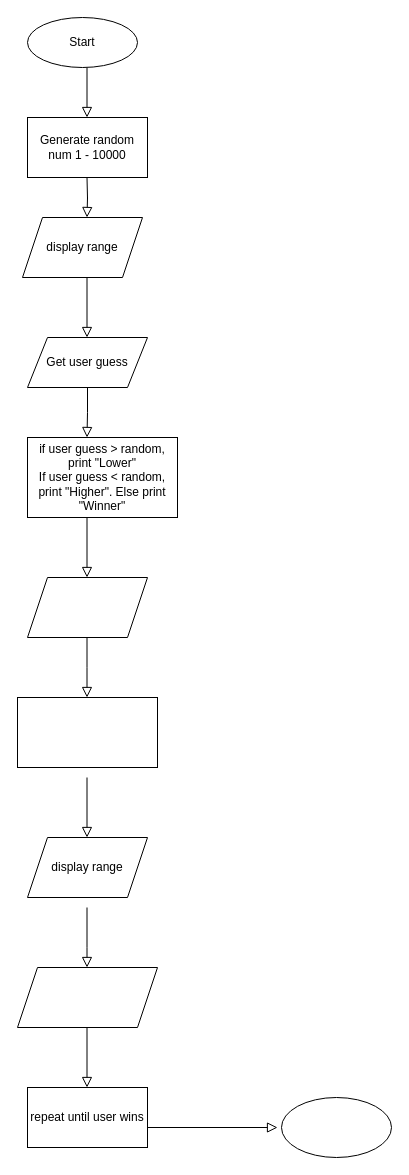
Some shapes in this 409 by 1175 pixel diagram are drawn without their labels. The shapes that lost their labels are listed below. From the top down, each one's centre as x and y in pixels, then its label:
At pixel 87 607: "display results".
At pixel 87 732: "Generate smaller random number range, half the size of previous".
At pixel 87 997: "Get new user guess".
At pixel 336 1127: "Stop".
